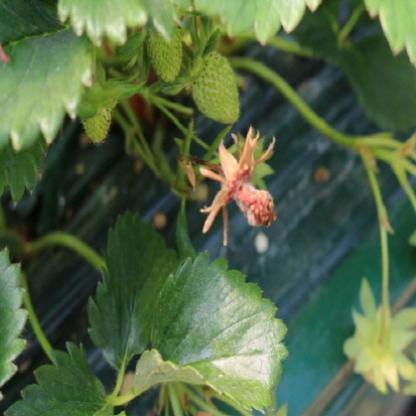Strawberry_Gray_Mold: (199, 124, 278, 248)
